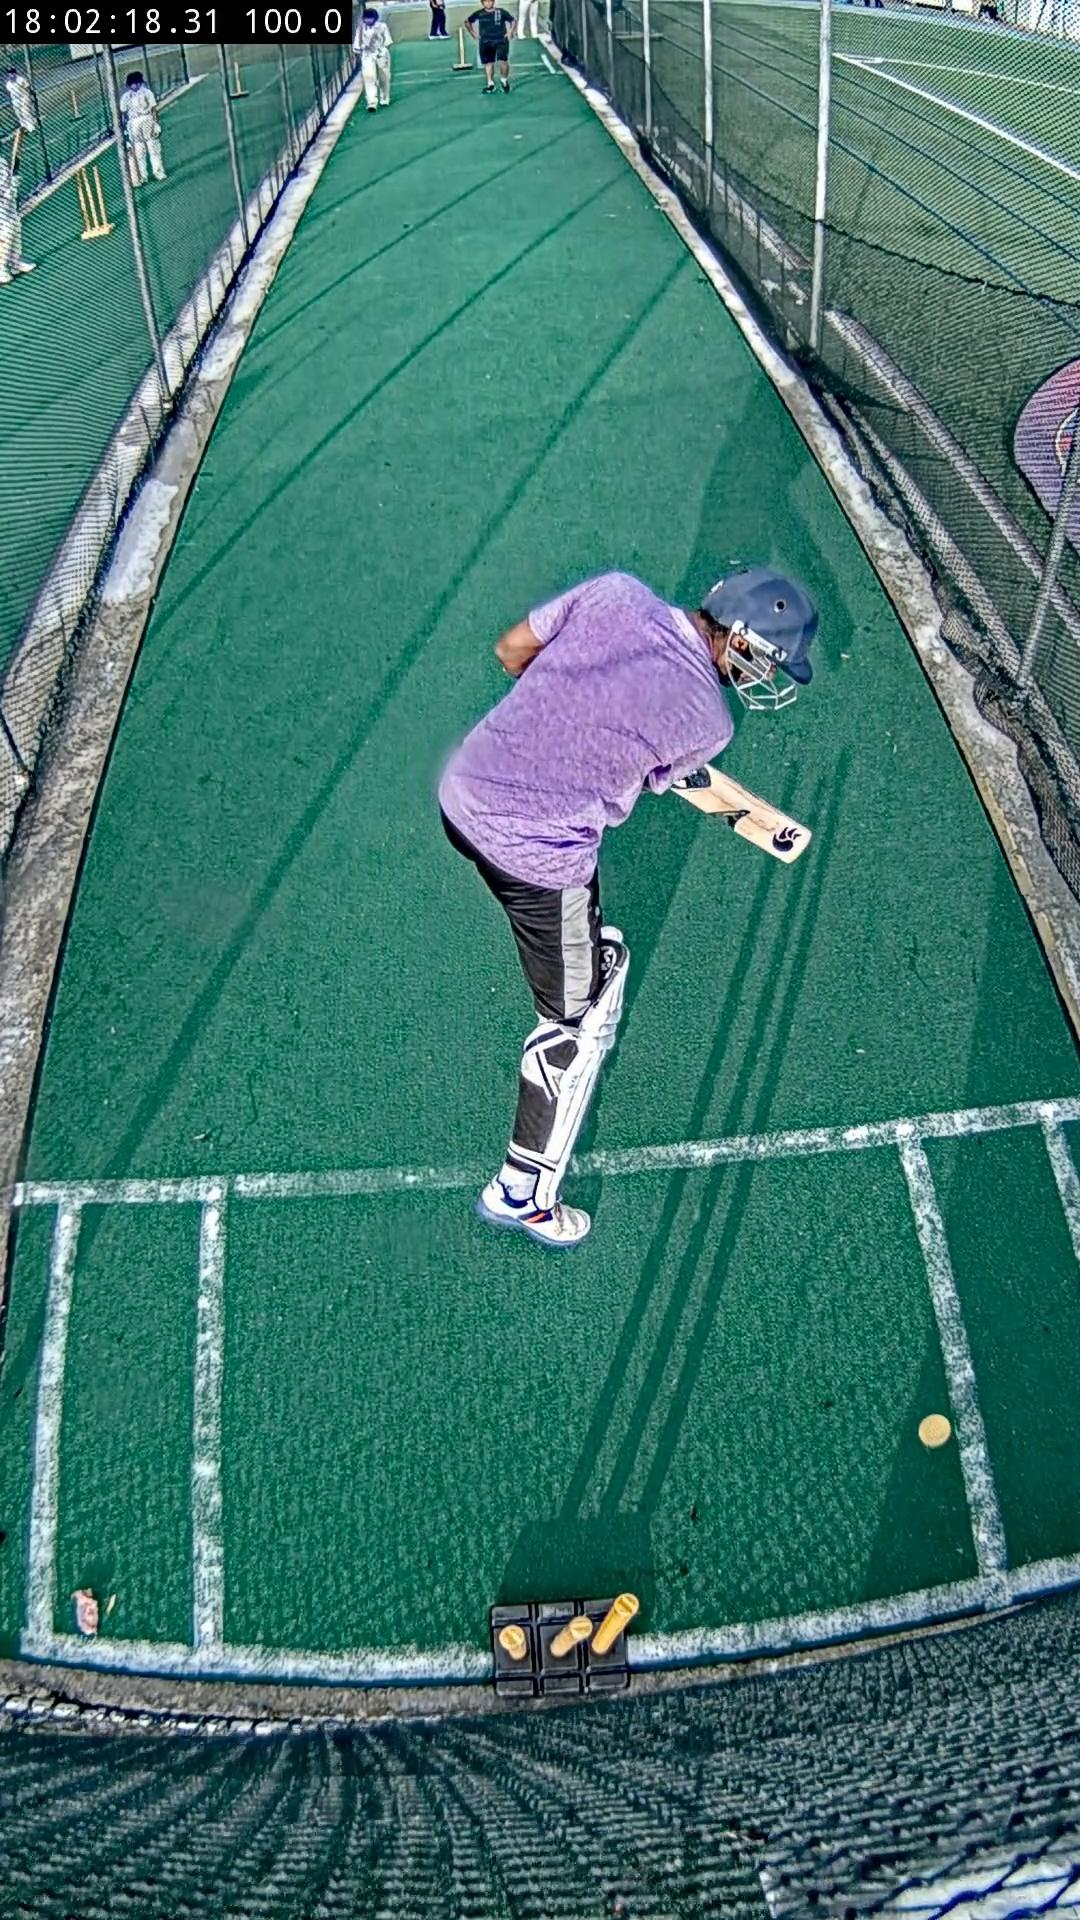ball: (919, 1414, 952, 1448)
bat: (671, 765, 810, 862)
helmet: (702, 566, 818, 708)
pads: (537, 926, 630, 1209)
stumps: (492, 1594, 641, 1698)
